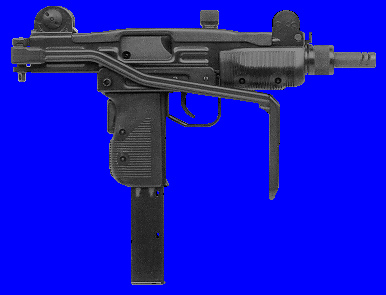rifle: (8, 4, 380, 281)
